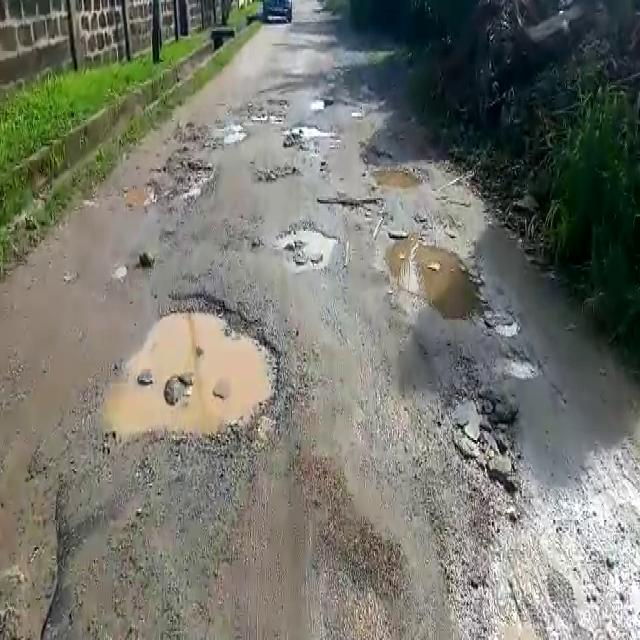Pothole: (92, 292, 291, 446), (379, 232, 490, 329), (122, 154, 216, 212), (356, 138, 426, 193), (279, 222, 343, 267), (316, 193, 388, 216), (281, 120, 340, 144), (500, 349, 542, 379), (253, 162, 304, 184)
